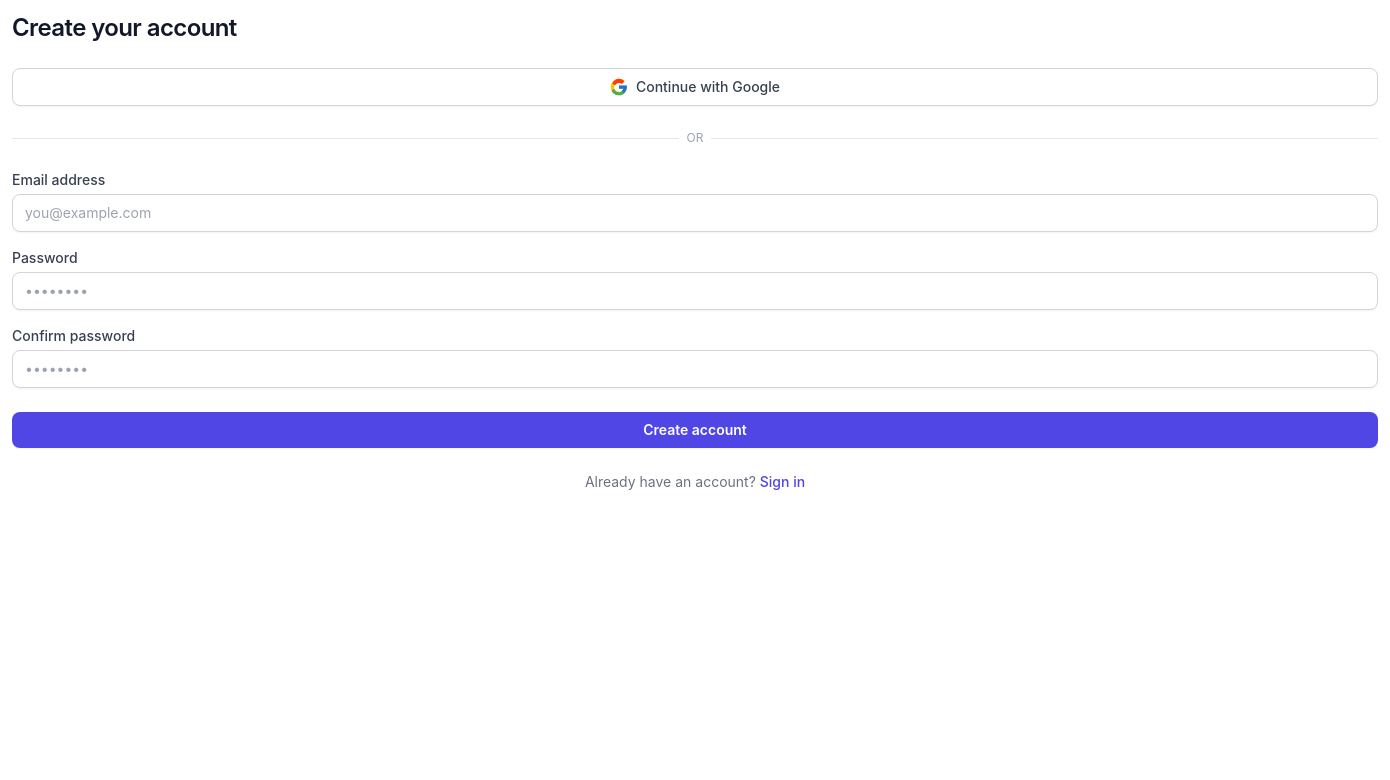
Scenario: RegisterPage › shows success state after successful registration
This screenshot has width=1390, height=780.
Type "test@example.com" into the field labelled "Email address". click: x=695, y=213
box: [12,194,1378,232]
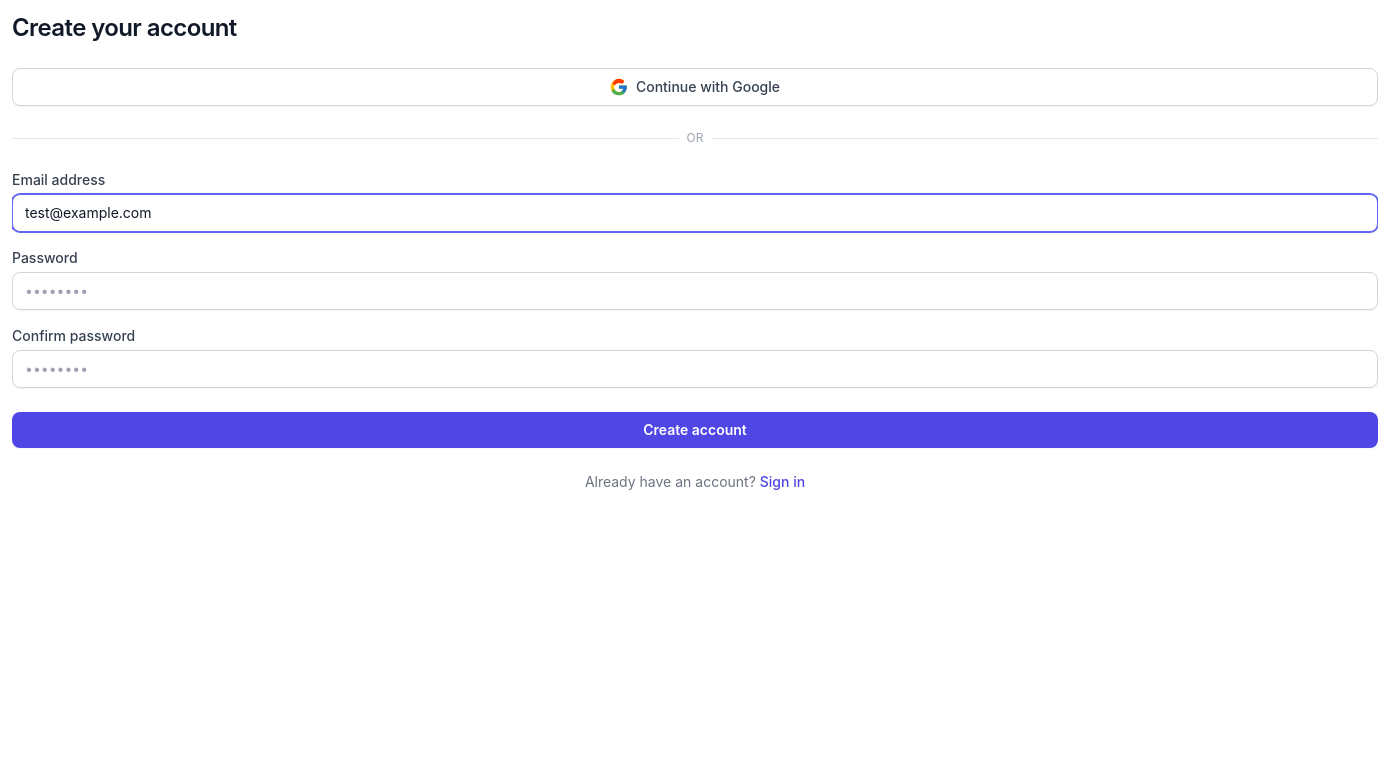
Type "TestPass1!" into the password field labelled "Password". click: x=695, y=291
box: [12,272,1378,310]
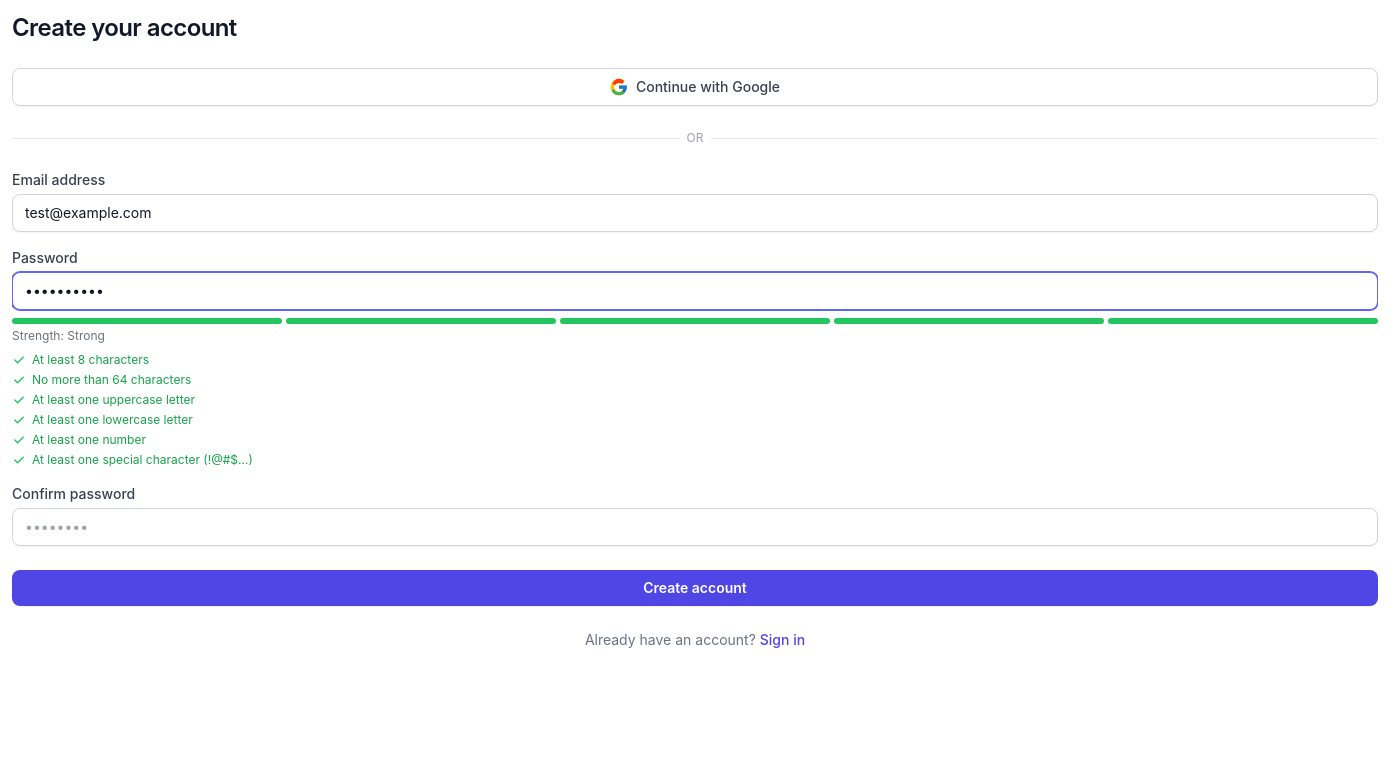
Type "TestPass1!" into the password field labelled "Confirm password". click: x=695, y=527
box: [12,508,1378,546]
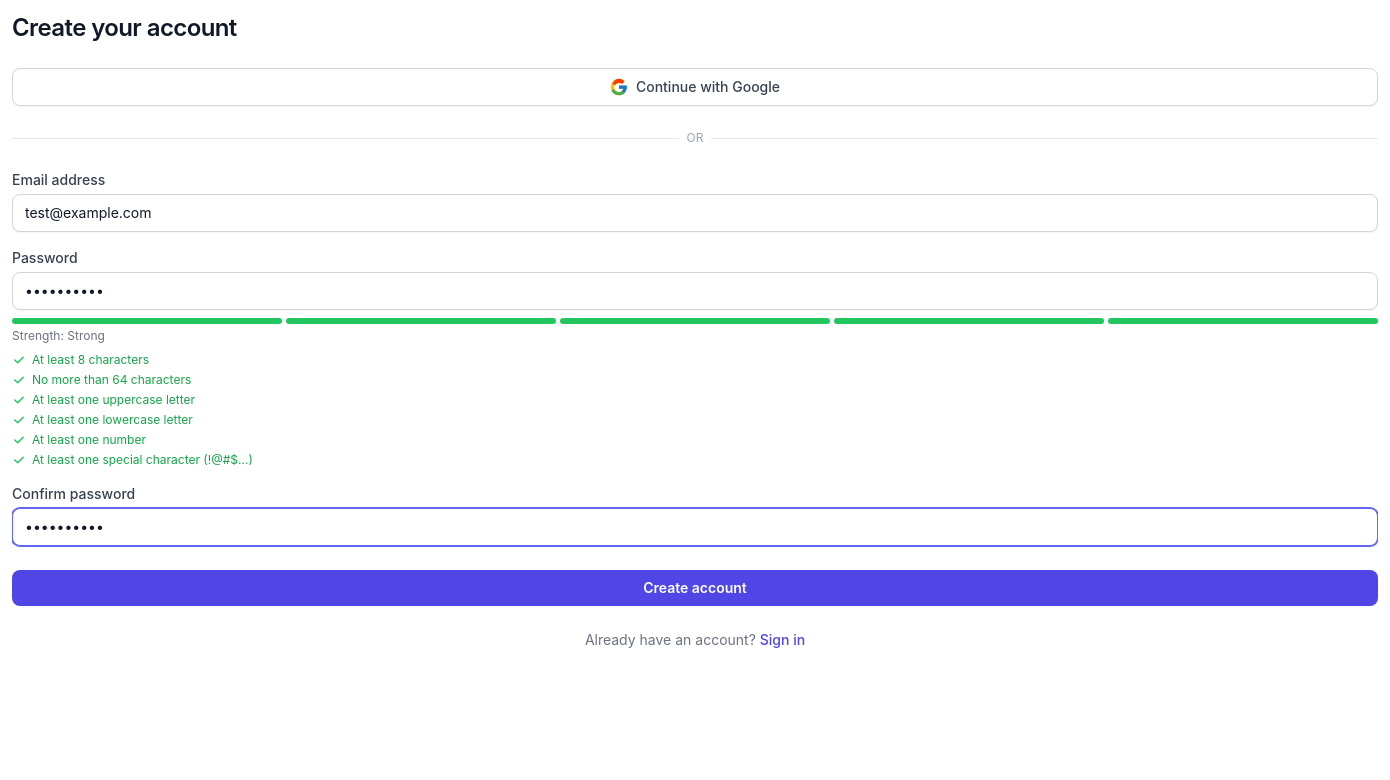
Click the button "Create account". click: x=695, y=588
box: [12,570,1378,606]
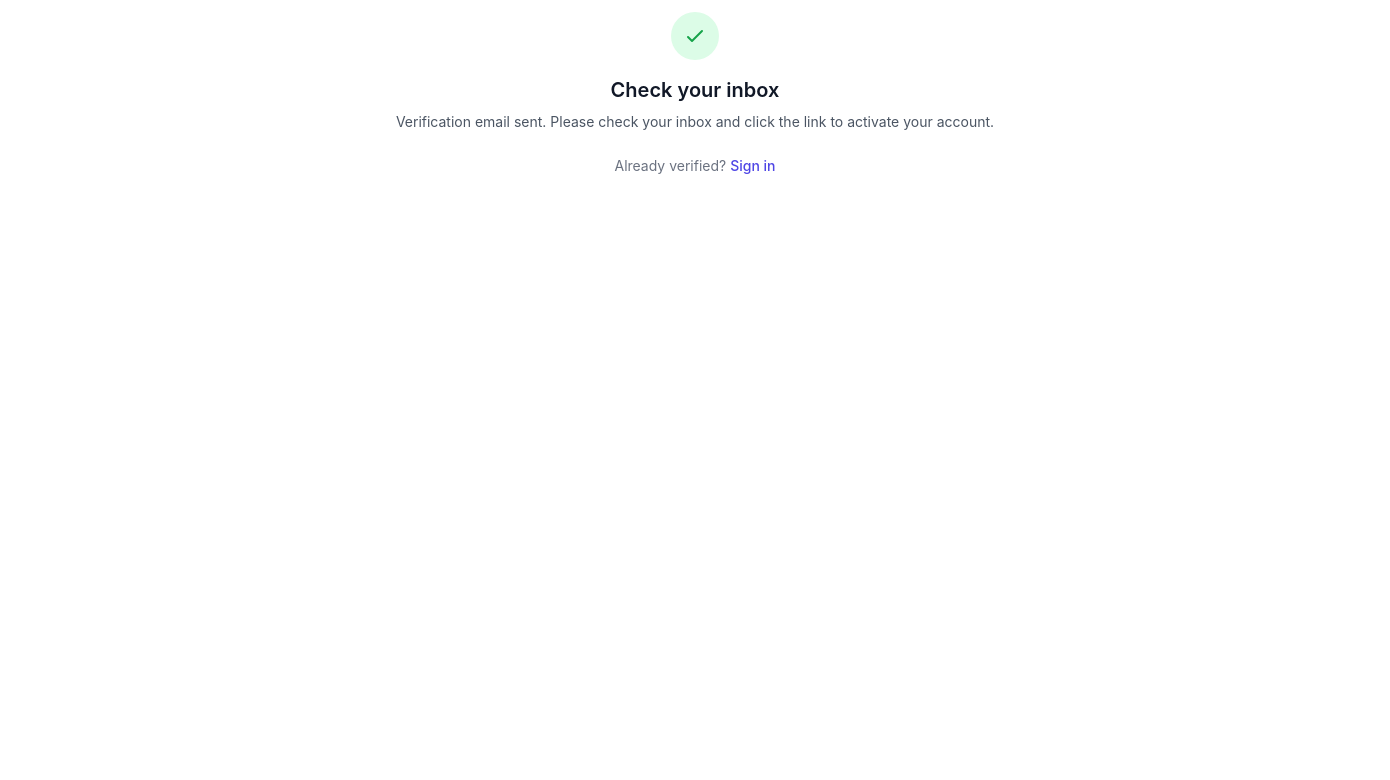
Result: the message is shown at [396,12,994,174]
Result: the heading "Check your inbox" is shown at [611,78,779,102]
